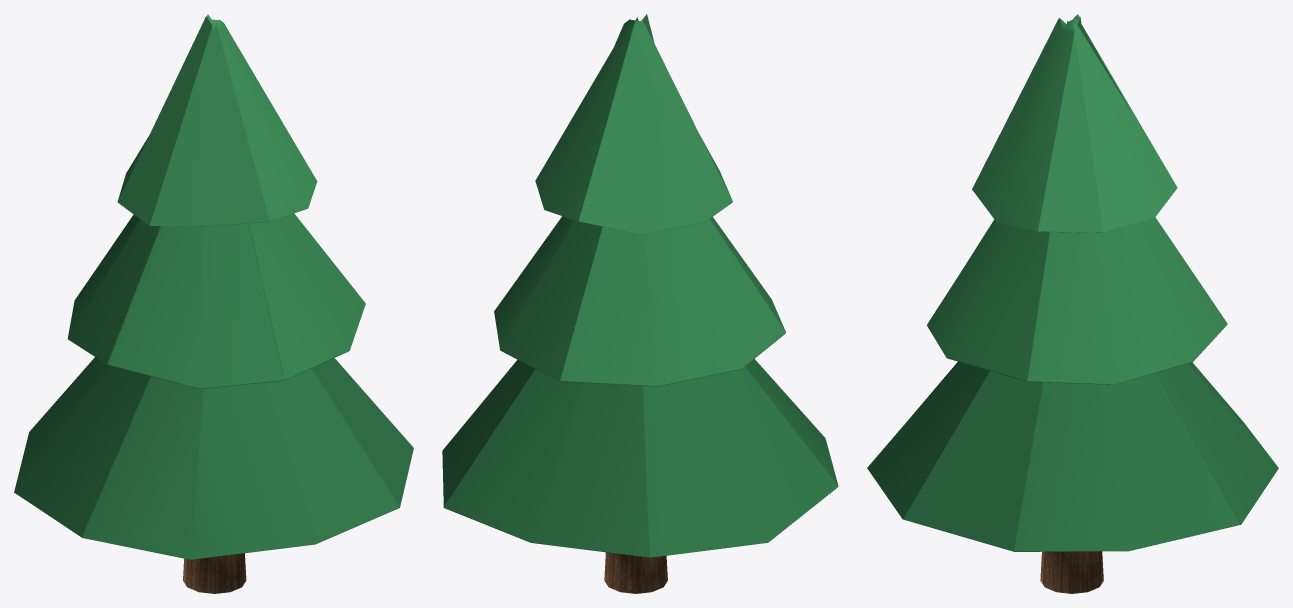
File: pine.glb
The picture shows the model from 3 angles, left to right: view 1: azimuth 30°, elevation 25°; view 2: azimuth 150°, elevation 25°; view 3: azimuth 270°, elevation 25°; orthographic projection.
Visible parts, largest first — view 1: needles, needles.001, needles.002, trunk; view 2: needles, needles.001, needles.002, trunk; view 3: needles, needles.001, needles.002, trunk.
Part boxes in pixels (bbox=[...]): needles: bbox=[14, 357, 413, 559]; needles.001: bbox=[67, 213, 365, 388]; needles.002: bbox=[117, 14, 317, 226]; trunk: bbox=[183, 553, 246, 593]; needles: bbox=[442, 359, 838, 557]; needles.001: bbox=[494, 216, 785, 386]; needles.002: bbox=[535, 14, 732, 234]; trunk: bbox=[604, 552, 667, 593]; needles: bbox=[867, 361, 1278, 551]; needles.001: bbox=[927, 217, 1227, 384]; needles.002: bbox=[972, 14, 1177, 232]; trunk: bbox=[1040, 551, 1103, 593].
Bounding box in the file's own units: 2.95 × 4.71 × 3.12.
4 materials, 1 textured.
